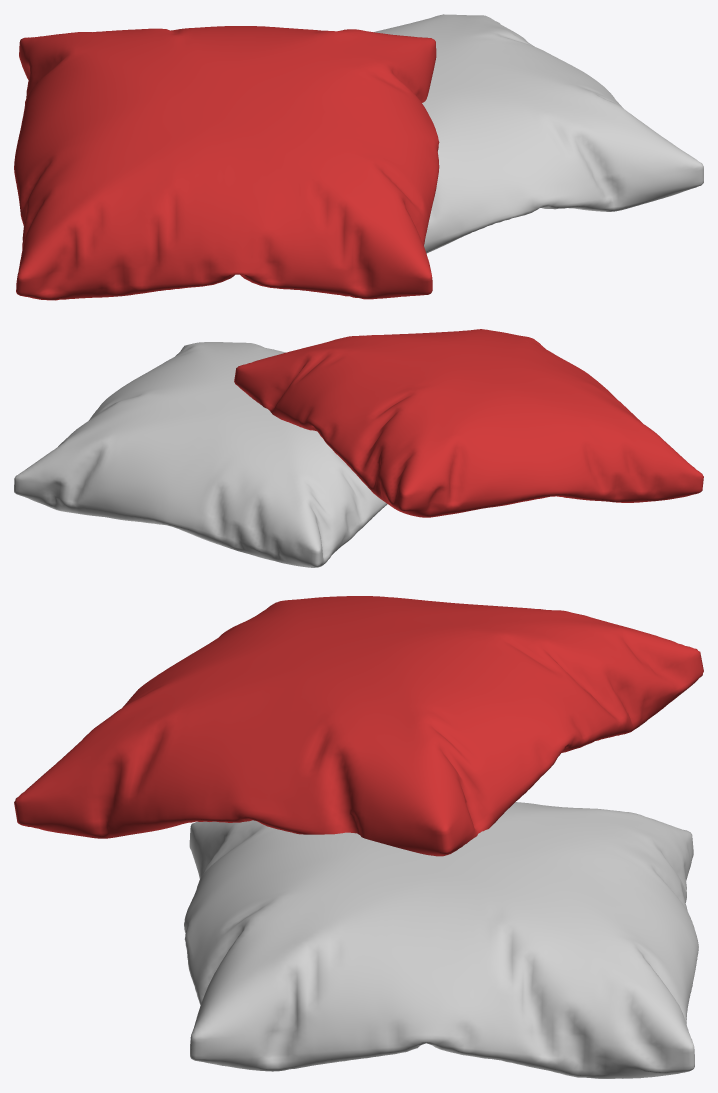
Rendered from Pillows.obj.
3 views of the same model, one above another, from view 1: azimuth 30°, elevation 25°; view 2: azimuth 150°, elevation 25°; view 3: azimuth 270°, elevation 25° (orthographic). The views are drawn at different scales.
Size of the model in its own units: 3.46 by 0.9042 by 2.59.
